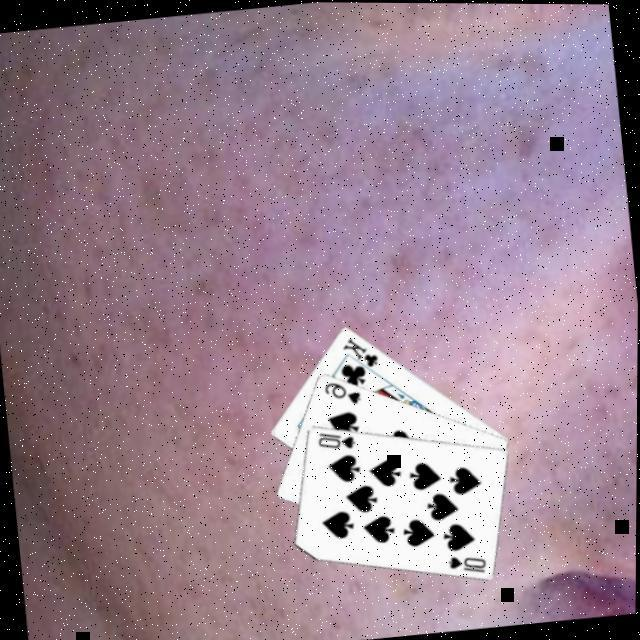10S: (446, 547, 491, 575), (314, 424, 358, 452)
6S: (320, 372, 364, 407)
KC: (339, 328, 383, 376)
